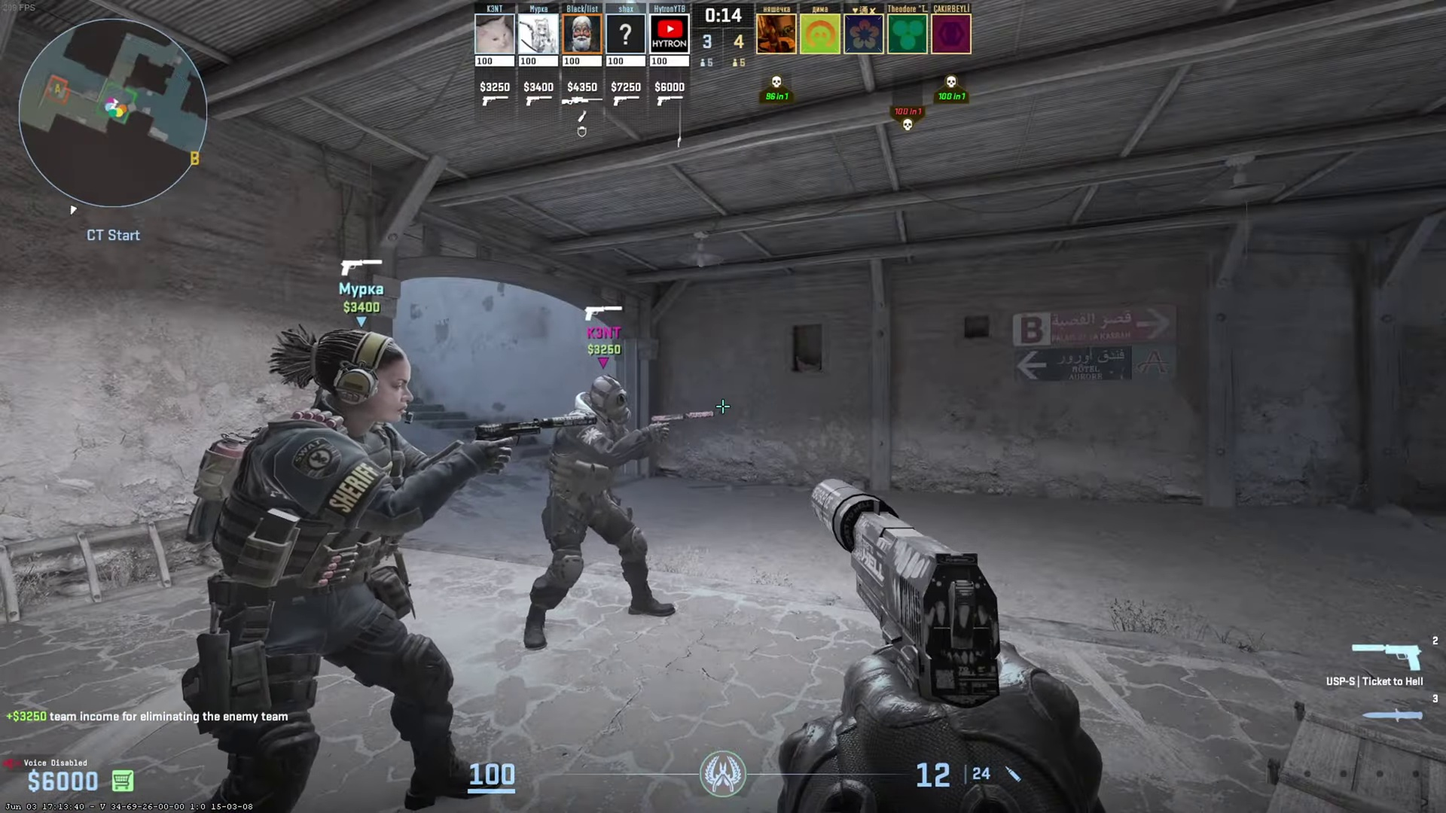CT: (199, 321, 458, 803), (541, 364, 668, 635)
